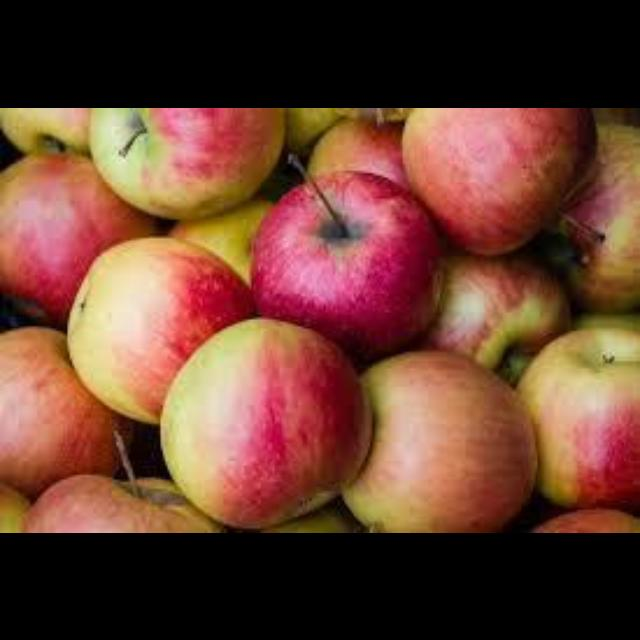apple: (161, 319, 370, 526), (251, 170, 440, 358), (342, 349, 535, 531), (70, 237, 254, 421), (403, 107, 596, 254), (0, 154, 154, 326), (0, 326, 130, 496), (517, 328, 638, 510), (88, 107, 284, 216), (23, 444, 221, 531), (421, 251, 566, 368)
